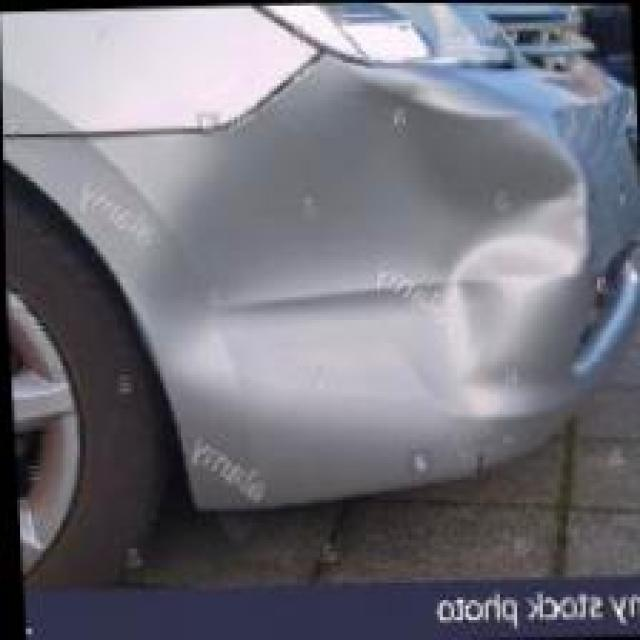car damage: (145, 85, 585, 456)
